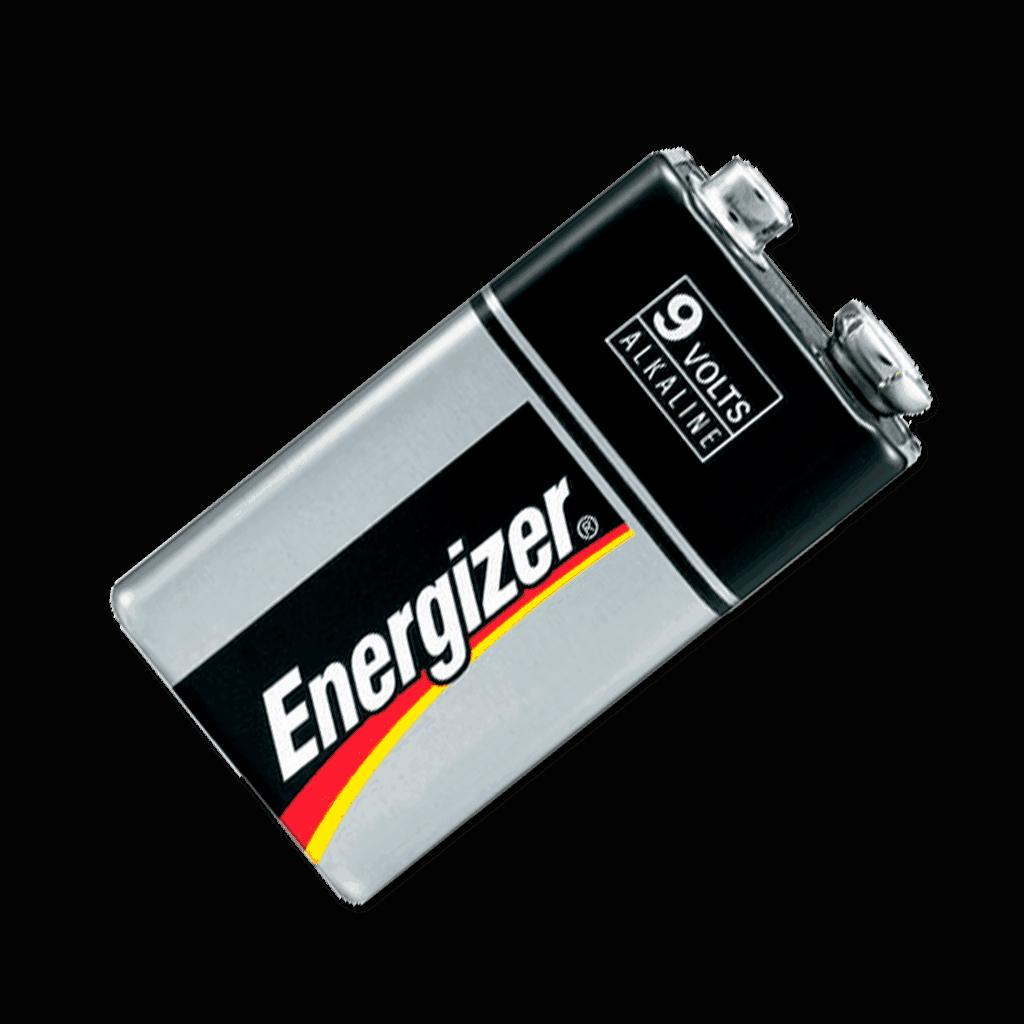9V Battery: (106, 148, 935, 913)
